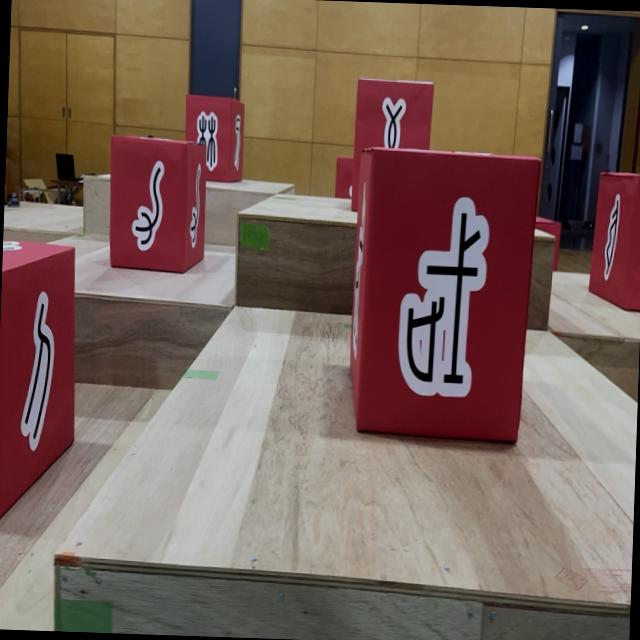10: (19, 289, 57, 453)
11: (603, 194, 620, 281)
13: (131, 158, 165, 252), (189, 164, 201, 249)
2: (194, 109, 219, 172)
3: (233, 114, 241, 170)
5: (396, 194, 490, 400)
7: (380, 96, 406, 148)
fighter: (346, 146, 541, 444), (0, 238, 81, 526), (106, 134, 207, 274), (352, 79, 434, 214), (586, 168, 640, 311), (183, 94, 244, 182), (532, 217, 560, 270), (335, 156, 353, 198)
